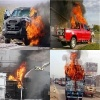fire: (26, 7, 46, 47), (64, 53, 85, 82), (70, 3, 91, 31), (8, 60, 25, 88), (87, 40, 96, 43)
